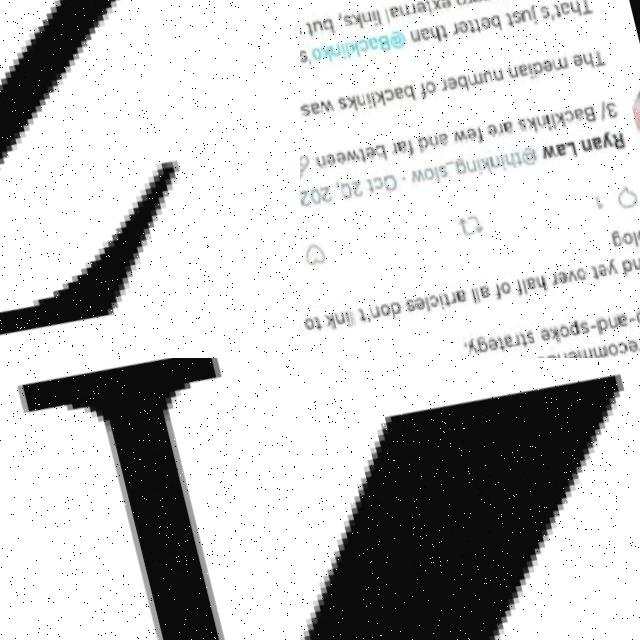0: (340, 177, 352, 195), (310, 183, 322, 201)
1: (595, 186, 604, 202)
2: (320, 179, 334, 200), (351, 174, 363, 194), (300, 184, 310, 203)
3: (604, 92, 618, 111)
7: (300, 358, 640, 640)
F: (0, 358, 300, 640)
Z: (0, 0, 300, 358)
